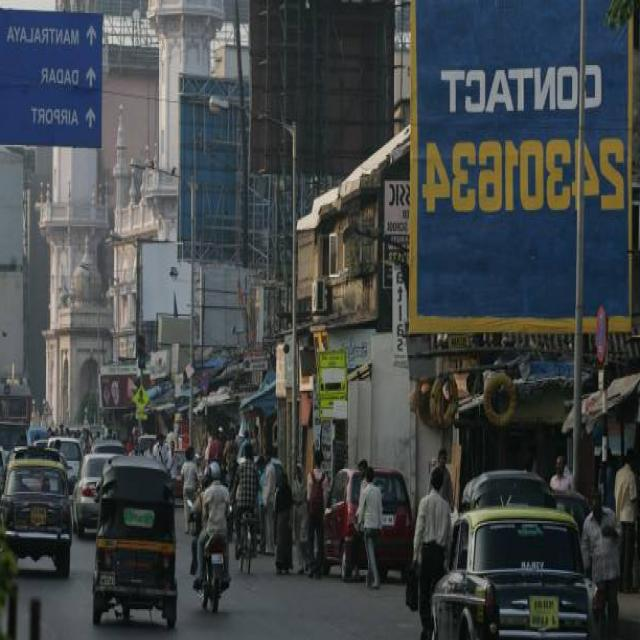Werbetafel frei: (407, 0, 632, 331)
